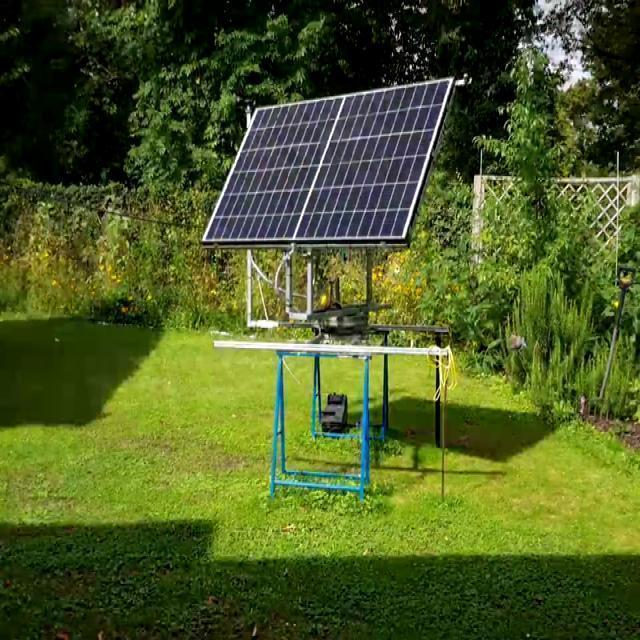Normal Solar Panel: (204, 77, 456, 247)
